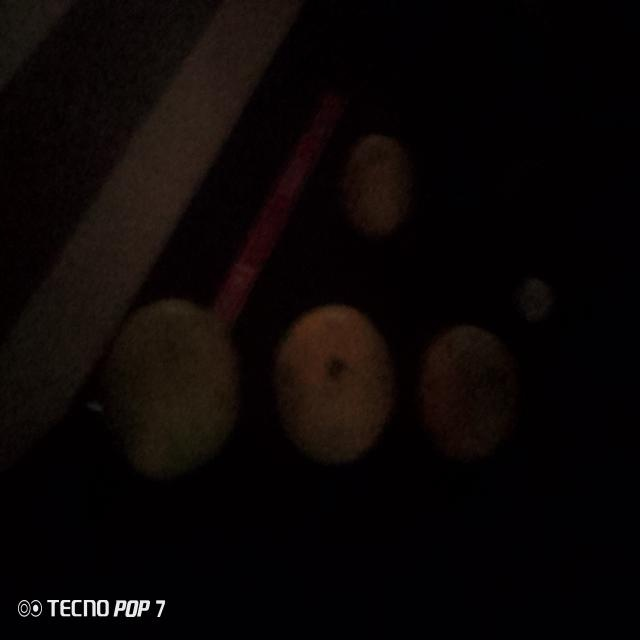agrume: (105, 306, 234, 472), (266, 310, 386, 466), (412, 328, 516, 462), (340, 136, 405, 239)
